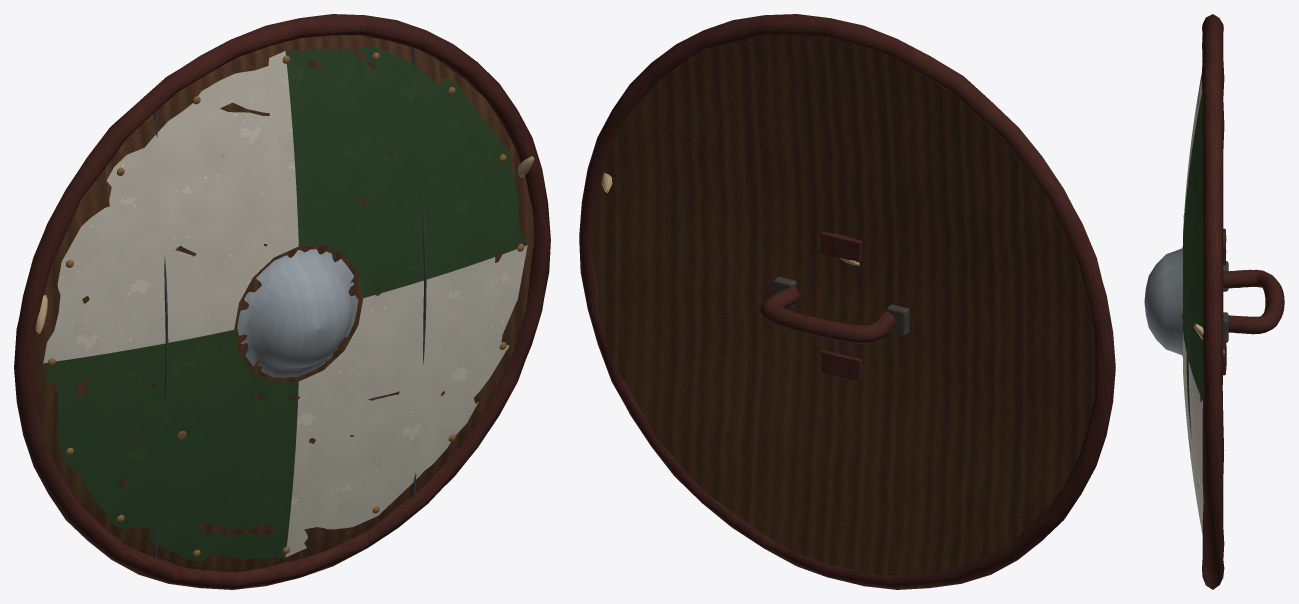
File: round-shield.lod1.glb
The picture shows the model from 3 angles, left to right: view 1: azimuth 30°, elevation 25°; view 2: azimuth 150°, elevation 25°; view 3: azimuth 270°, elevation 25°; orthographic projection. The views are drawn at different scales.
Parts seen in each view (by area): view 1: ceramic / ceramic composite panel, enamel / heraldic enamel, leather / oiled leather wrap, wood / oiled hardwood, steel / forged blade steel, darksteel / oil-blackened fittings, bronze / cast bronze with patina; view 2: wood / oiled hardwood, leather / oiled leather wrap, iron / hammer-scaled wrought iron; view 3: leather / oiled leather wrap, ceramic / ceramic composite panel, steel / forged blade steel, enamel / heraldic enamel, darksteel / oil-blackened fittings, iron / hammer-scaled wrought iron.
Part boxes in pixels (<box>): ceramic / ceramic composite panel: <box>43,47,527,560</box>; enamel / heraldic enamel: <box>43,51,527,557</box>; leather / oiled leather wrap: <box>14,14,550,589</box>; wood / oiled hardwood: <box>35,35,534,572</box>; steel / forged blade steel: <box>237,249,358,377</box>; darksteel / oil-blackened fittings: <box>154,47,426,558</box>; bronze / cast bronze with patina: <box>48,52,524,556</box>; wood / oiled hardwood: <box>591,35,1094,576</box>; leather / oiled leather wrap: <box>579,14,1115,589</box>; iron / hammer-scaled wrought iron: <box>773,277,909,335</box>; leather / oiled leather wrap: <box>1201,14,1284,589</box>; ceramic / ceramic composite panel: <box>1183,92,1203,400</box>; steel / forged blade steel: <box>1144,246,1182,357</box>; enamel / heraldic enamel: <box>1183,72,1203,534</box>; darksteel / oil-blackened fittings: <box>1186,282,1191,438</box>; iron / hammer-scaled wrought iron: <box>1223,261,1228,342</box>.
Size of the model in its own units: 0.6647 by 0.6635 by 0.1616.
Materials: 10 (8 with a texture image).
